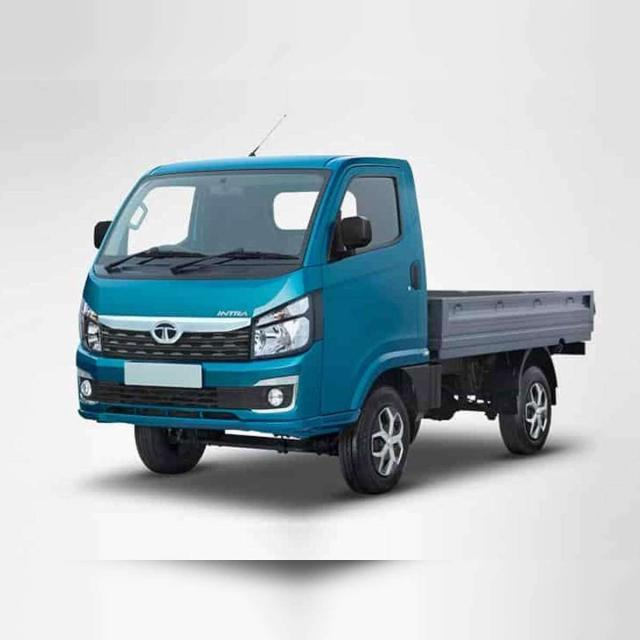truck: (76, 152, 595, 494)
